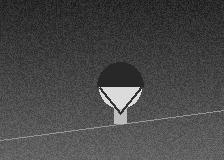helmet: (97, 62, 143, 113)
